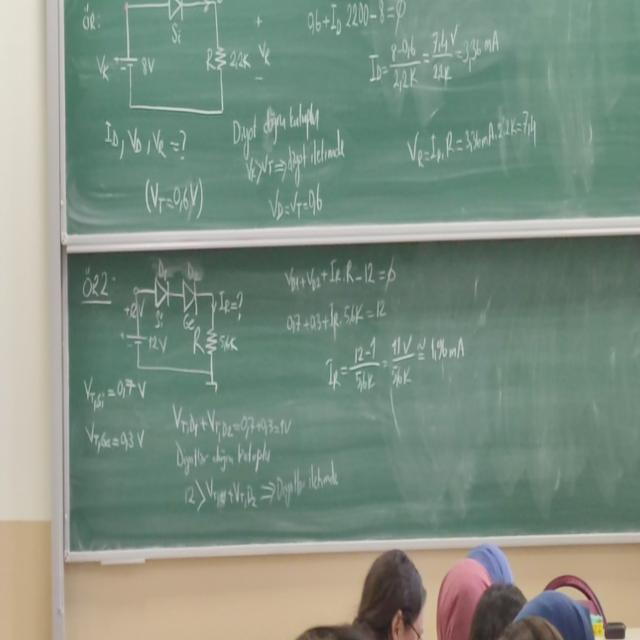image: (92, 0, 273, 125), (115, 251, 254, 407)
math: (276, 256, 470, 399), (168, 398, 346, 522), (362, 14, 510, 96), (400, 102, 549, 170), (78, 369, 156, 466), (97, 110, 194, 166), (260, 178, 353, 224), (142, 168, 209, 226)
